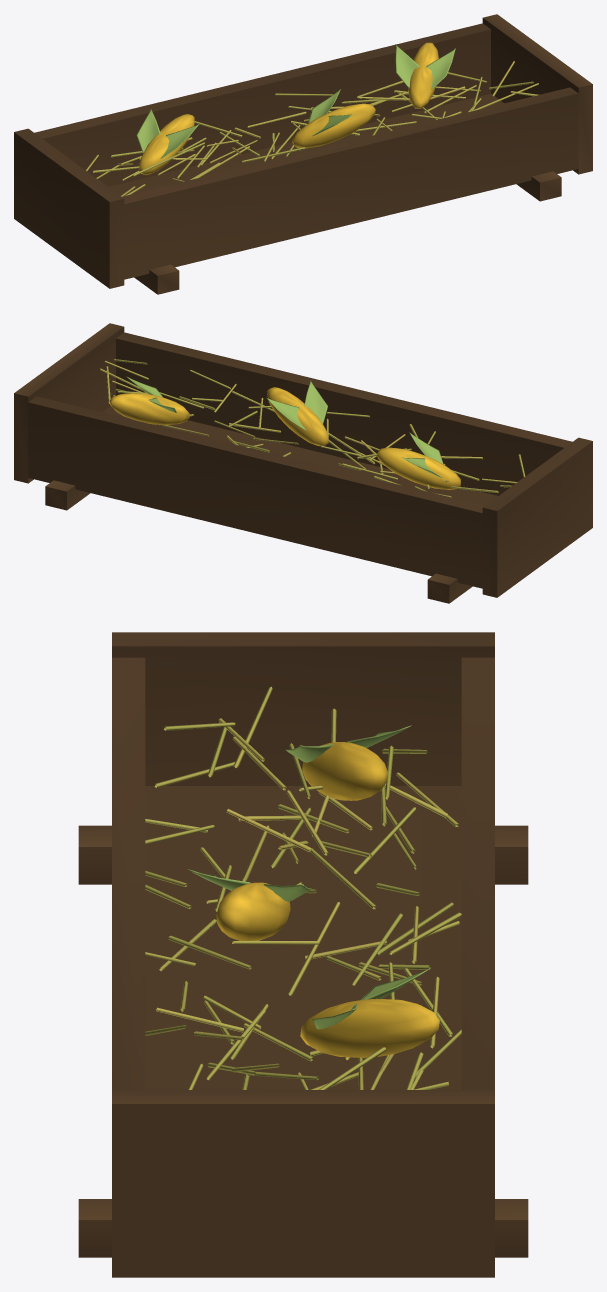
Rendered from Trough.glb.
3 views of the same model, one above another, from view 1: azimuth 30°, elevation 25°; view 2: azimuth 150°, elevation 25°; view 3: azimuth 270°, elevation 25° (orthographic). The views are drawn at different scales.
Parts seen in each view (by area): view 1: TroughWood, TroughHay, TroughCorn, TroughHusks; view 2: TroughWood, TroughCorn, TroughHay, TroughHusks; view 3: TroughWood, TroughHay, TroughCorn, TroughHusks.
Part boxes in pixels (x1=…): TroughWood: x1=14, y1=14, x2=592, y2=294; TroughHay: x1=86, y1=61, x2=539, y2=196; TroughCorn: x1=139, y1=42, x2=438, y2=175; TroughHusks: x1=136, y1=44, x2=455, y2=158; TroughWood: x1=14, y1=323, x2=592, y2=603; TroughCorn: x1=109, y1=387, x2=461, y2=489; TroughHay: x1=100, y1=359, x2=525, y2=497; TroughHusks: x1=126, y1=376, x2=443, y2=477; TroughWood: x1=78, y1=632, x2=528, y2=1277; TroughHay: x1=145, y1=686, x2=461, y2=1089; TroughCorn: x1=216, y1=742, x2=439, y2=1057; TroughHusks: x1=187, y1=725, x2=428, y2=1029.
Size of the model in its own units: 1.34 by 0.283 by 0.54.
